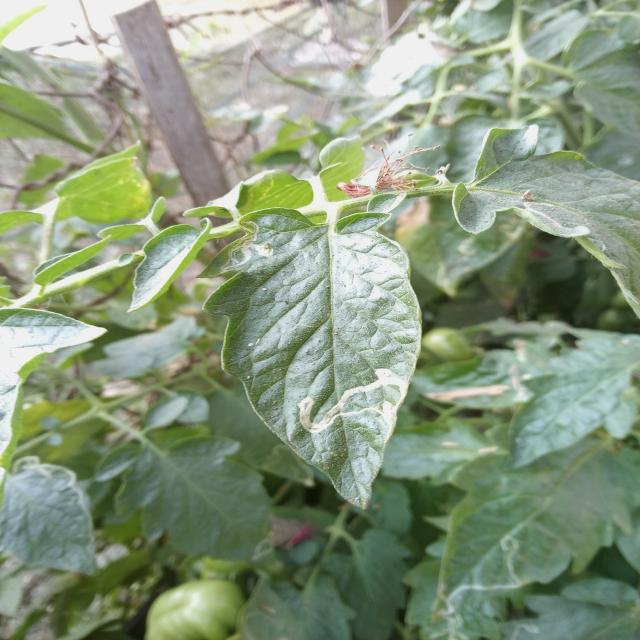Tuta absoluta: (293, 361, 418, 454)
